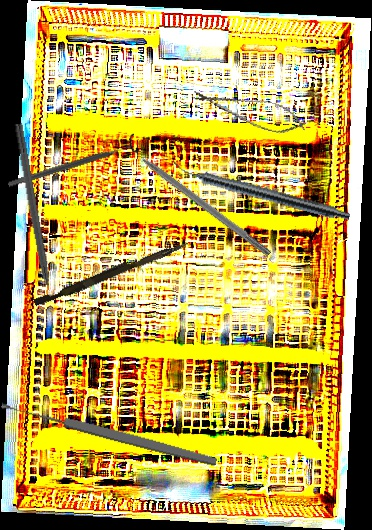Fixation Ring: (5, 132, 140, 195)
Handpiece: (169, 159, 353, 224)
Hook Surgical: (122, 140, 273, 258), (12, 122, 56, 311)
Micro Scissor: (189, 82, 310, 140)
Pusher: (33, 235, 189, 311)
Surgical Spoon: (0, 398, 218, 469)
